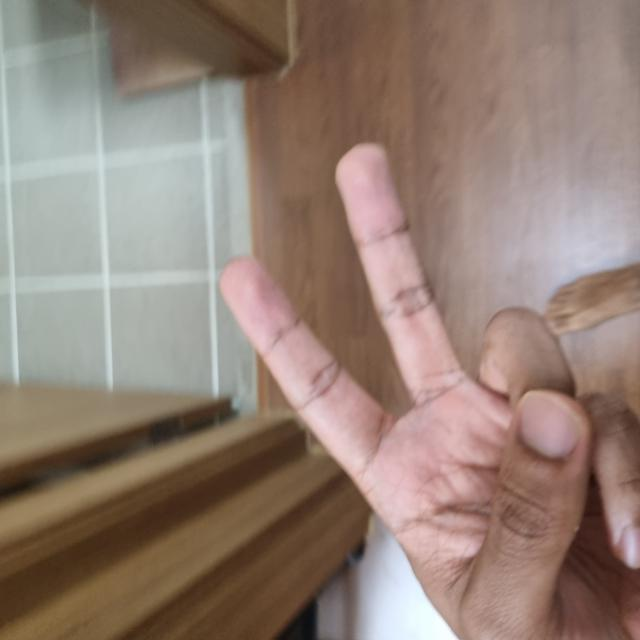Scissors: (1, 225, 490, 639)
